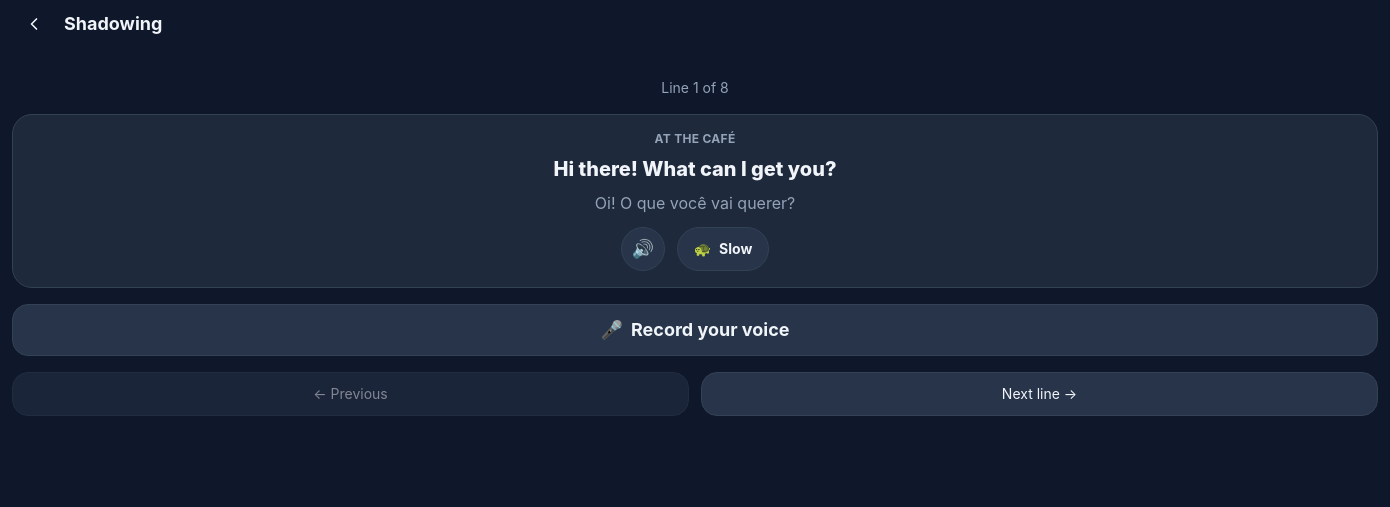
it: Shadowing › praises a good repetition
Click the button "🎤 Record your voice".
click(695, 330)  # box [12,304,1378,356]
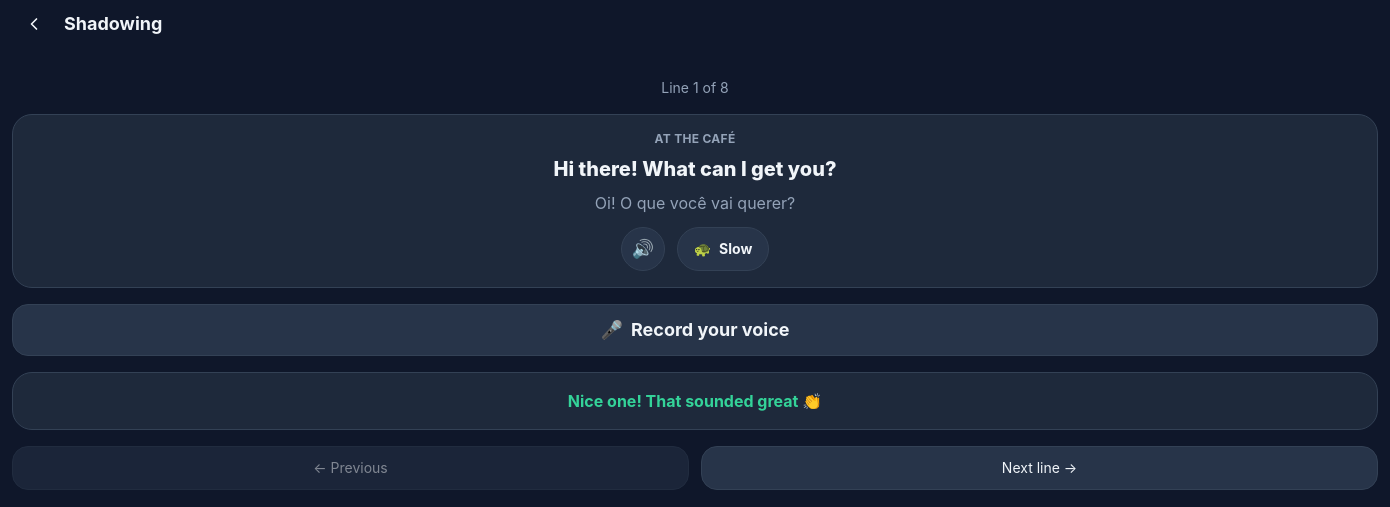
Expected: the text "Nice one! That sounded great 👏" is shown, [568,391,822,411]
